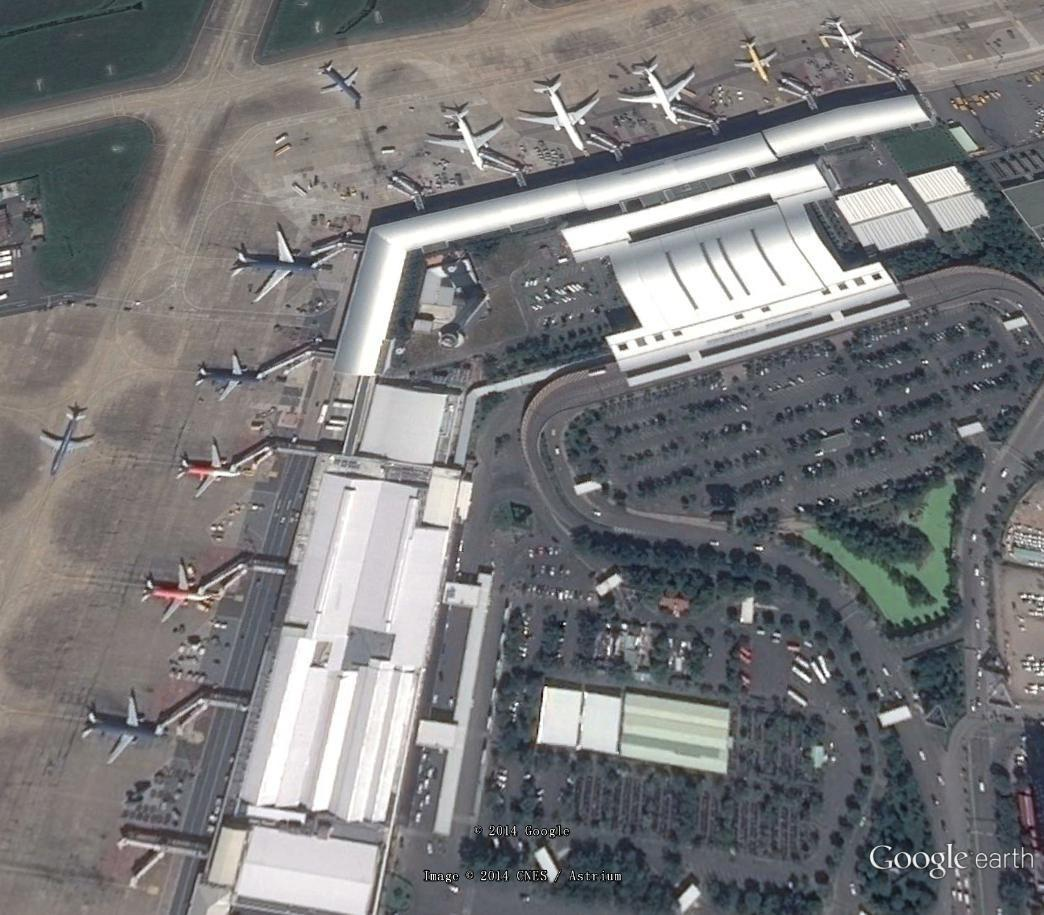aircraft: (231, 225, 328, 312), (76, 693, 174, 768), (516, 78, 603, 151), (420, 103, 507, 174), (612, 57, 697, 129), (144, 555, 219, 628), (174, 435, 250, 507), (40, 405, 102, 480), (193, 348, 274, 403), (733, 34, 783, 87), (318, 58, 370, 108), (816, 13, 865, 60)
